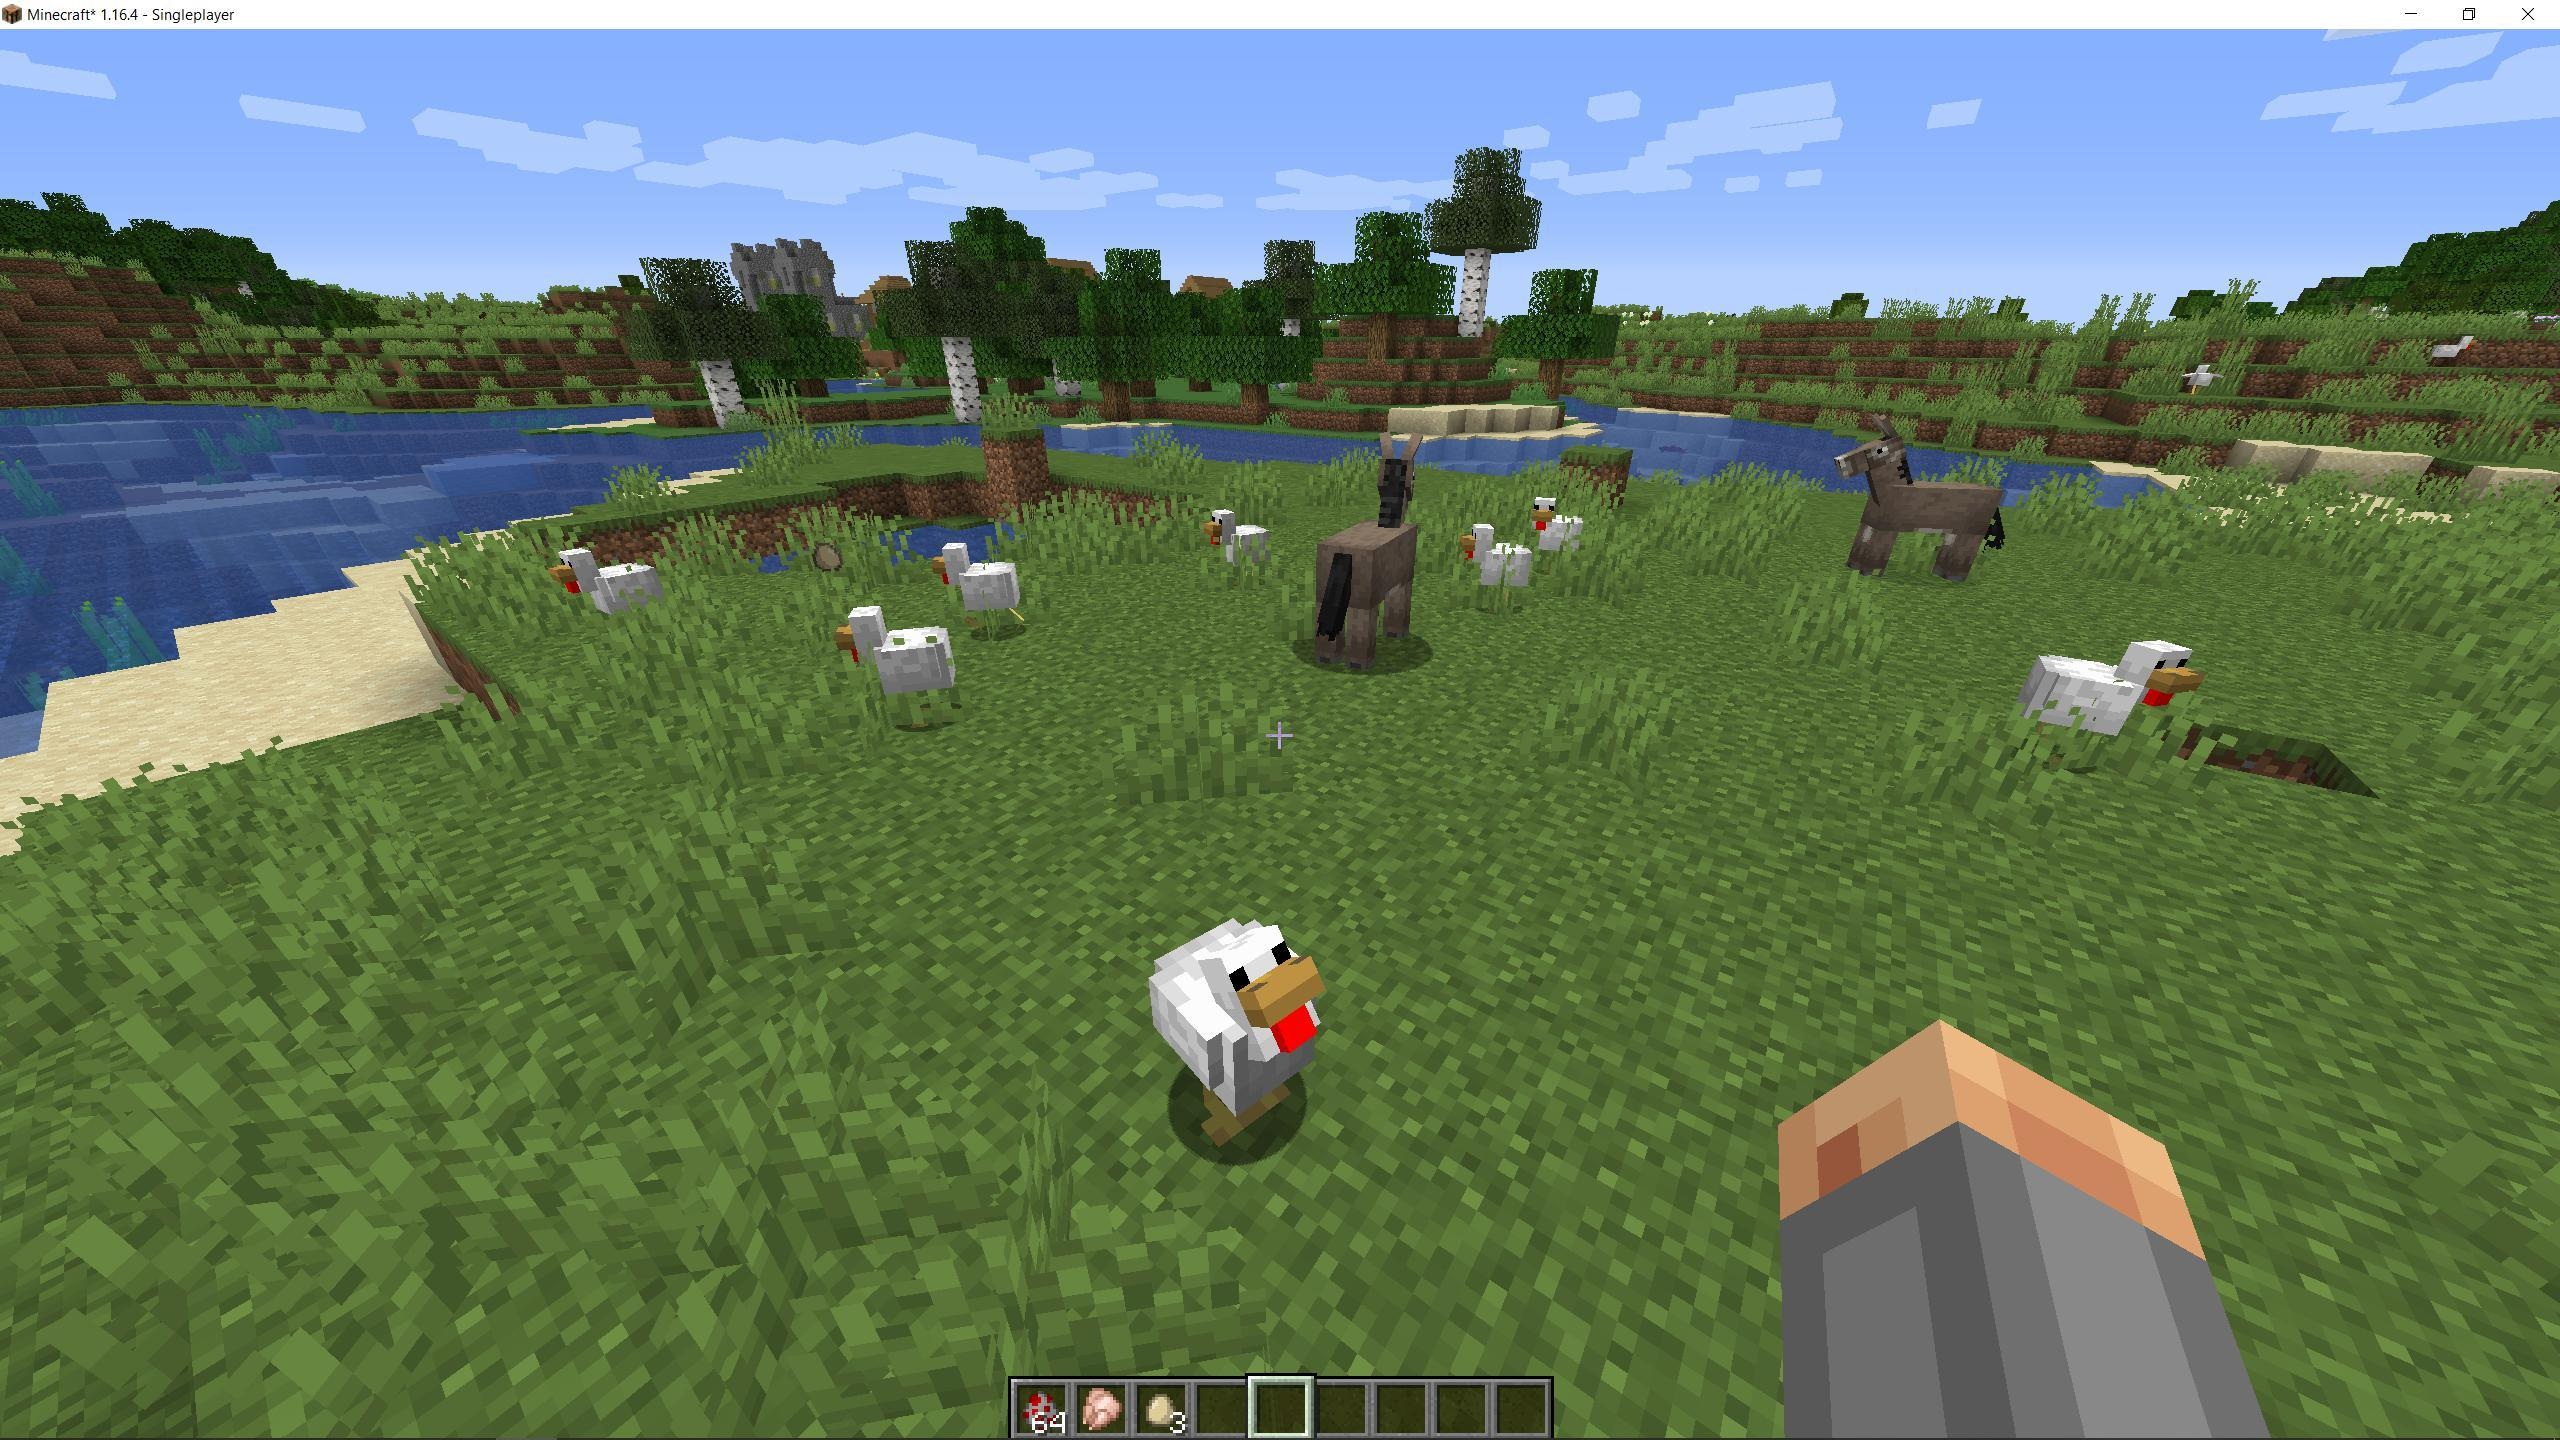chicken: (1146, 911, 1335, 1159), (2024, 624, 2205, 761), (832, 598, 964, 731), (538, 538, 672, 640), (934, 540, 1027, 640), (1451, 520, 1533, 605), (1201, 505, 1275, 575), (1523, 491, 1586, 557)
